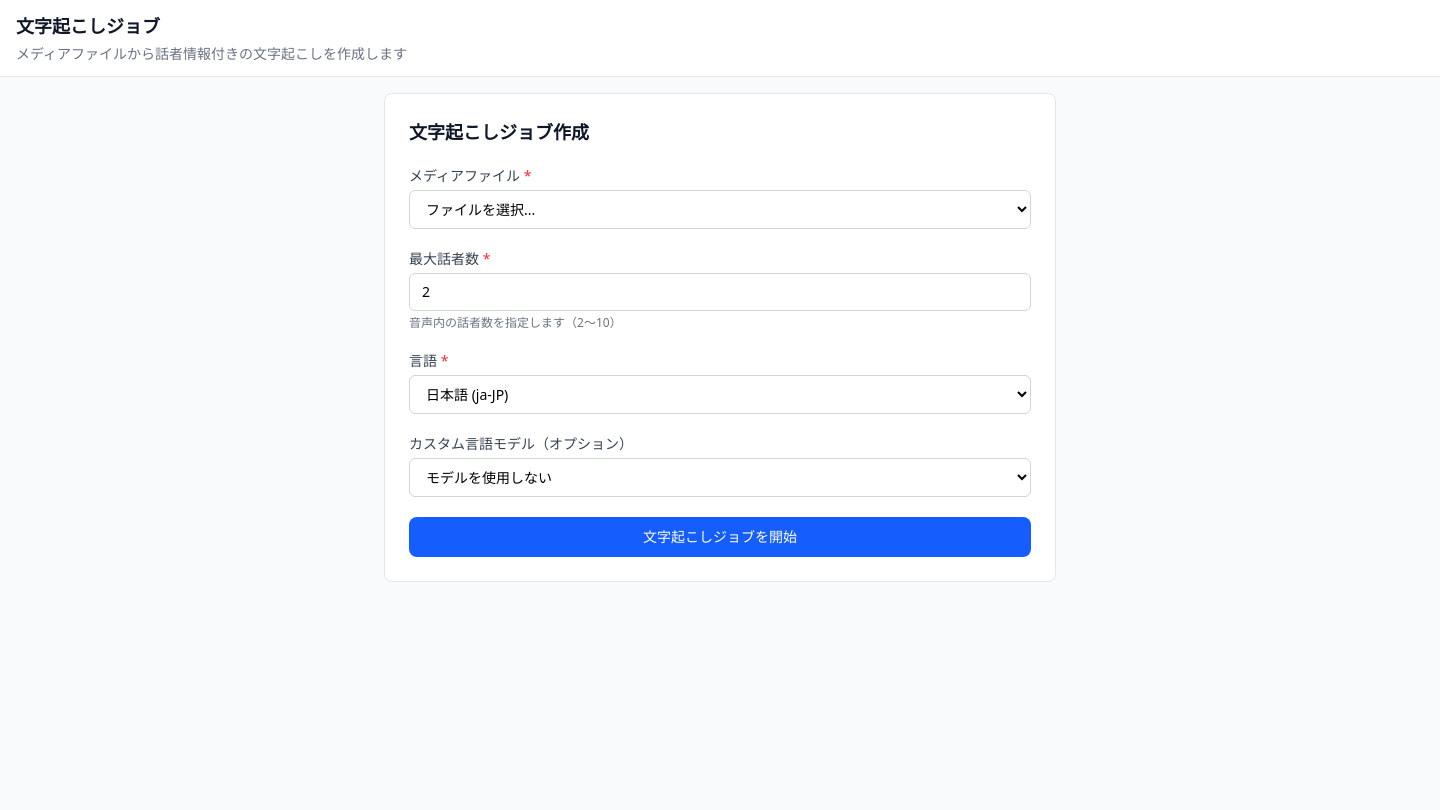
Test: TranscriptionJobPage › job creation flow › shows completion message when job completes
The image size is (1440, 810).
Expected: the form named "Transcription ジョブ作成フォーム" is shown, [384,93,1056,582]
Select "会議録音.mp3" in the dropdown labelled "メディアファイル *" at (720, 210), box [409,190,1031,229]
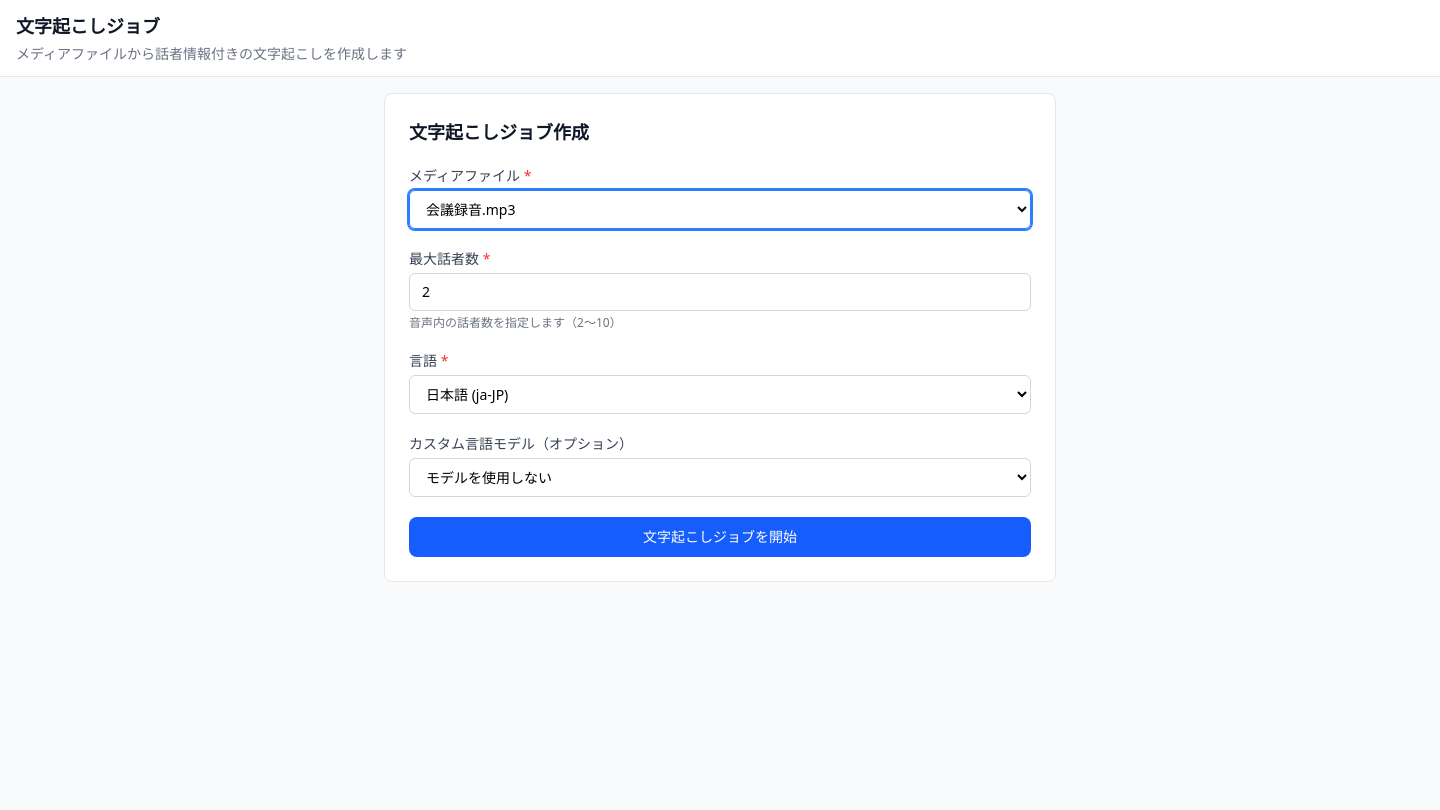
Click the button "文字起こしジョブを開始" at (720, 537), box [409,517,1031,557]
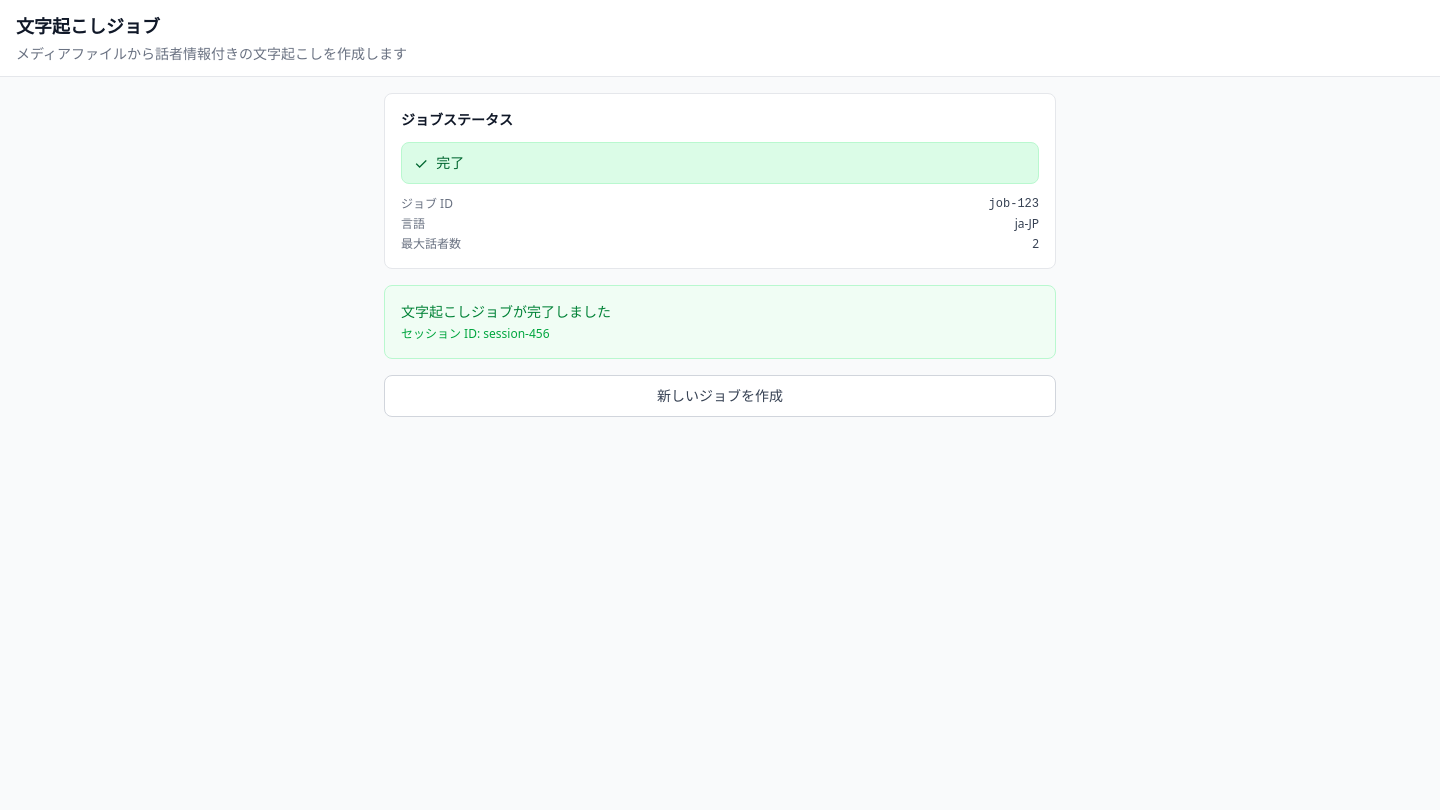
Result: the text "文字起こしジョブが完了しました" is shown at [401,302,611,321]
Result: the text "セッション ID: session-456" is shown at [401,325,550,342]
